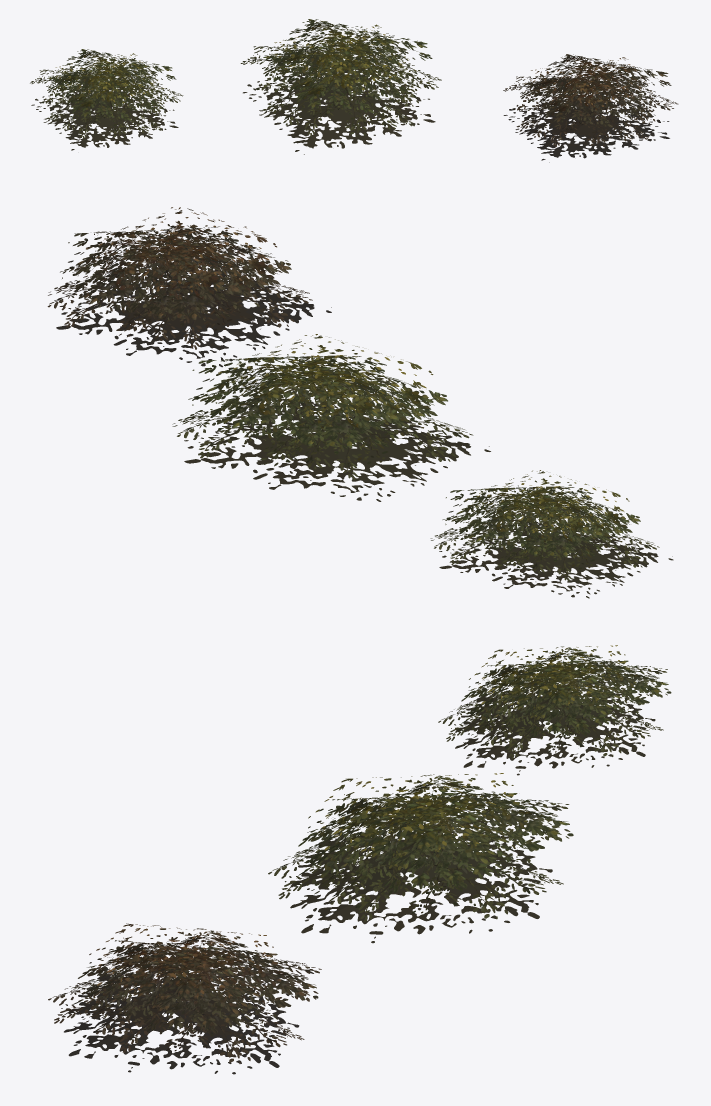
Rendered from plants_bushes02.fbx.
The picture shows the model from 3 angles, top to bottom: view 1: azimuth 30°, elevation 25°; view 2: azimuth 150°, elevation 25°; view 3: azimuth 270°, elevation 25°; orthographic projection. The views are drawn at different scales.
Parts seen in each view (by area): view 1: obj1.042; view 2: obj1.042; view 3: obj1.042.
Boxes of the visible parts, box(x1,y1,x2,y2) form: obj1.042: box(30, 19, 678, 162); obj1.042: box(47, 207, 673, 598); obj1.042: box(48, 645, 671, 1074).
Size of the model in its own units: 10.66 by 1.35 by 7.62.
